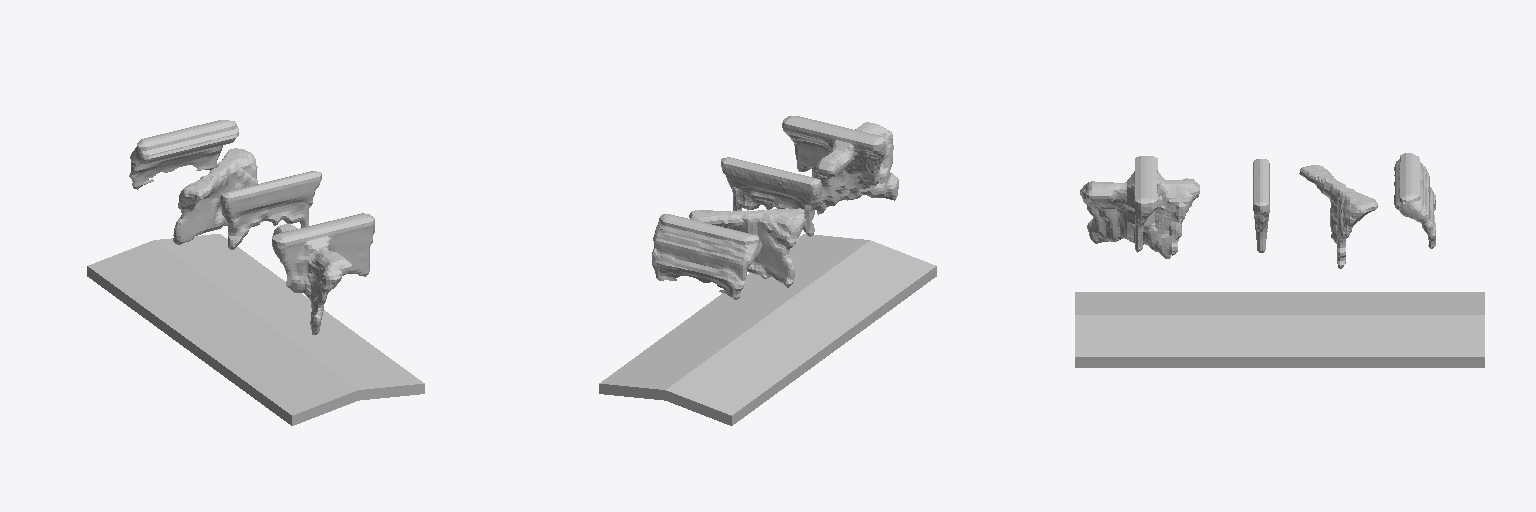
Rendered from Watersim_000012.obj.
3 views of the same model, side by side, from view 1: azimuth 30°, elevation 25°; view 2: azimuth 150°, elevation 25°; view 3: azimuth 270°, elevation 25° (orthographic).
Visible parts, largest first — view 1: Straße_Cube.007, Domain_Cube.006; view 2: Straße_Cube.007, Domain_Cube.006; view 3: Straße_Cube.007, Domain_Cube.006.
Boxes of the visible parts, <box> form: Straße_Cube.007: <box>87,234,424,425</box>; Domain_Cube.006: <box>129,120,374,334</box>; Straße_Cube.007: <box>599,234,936,425</box>; Domain_Cube.006: <box>652,116,898,299</box>; Straße_Cube.007: <box>1075,292,1484,367</box>; Domain_Cube.006: <box>1080,153,1435,268</box>.
Bounding box in the file's own units: 2.26 × 2.59 × 6.06.